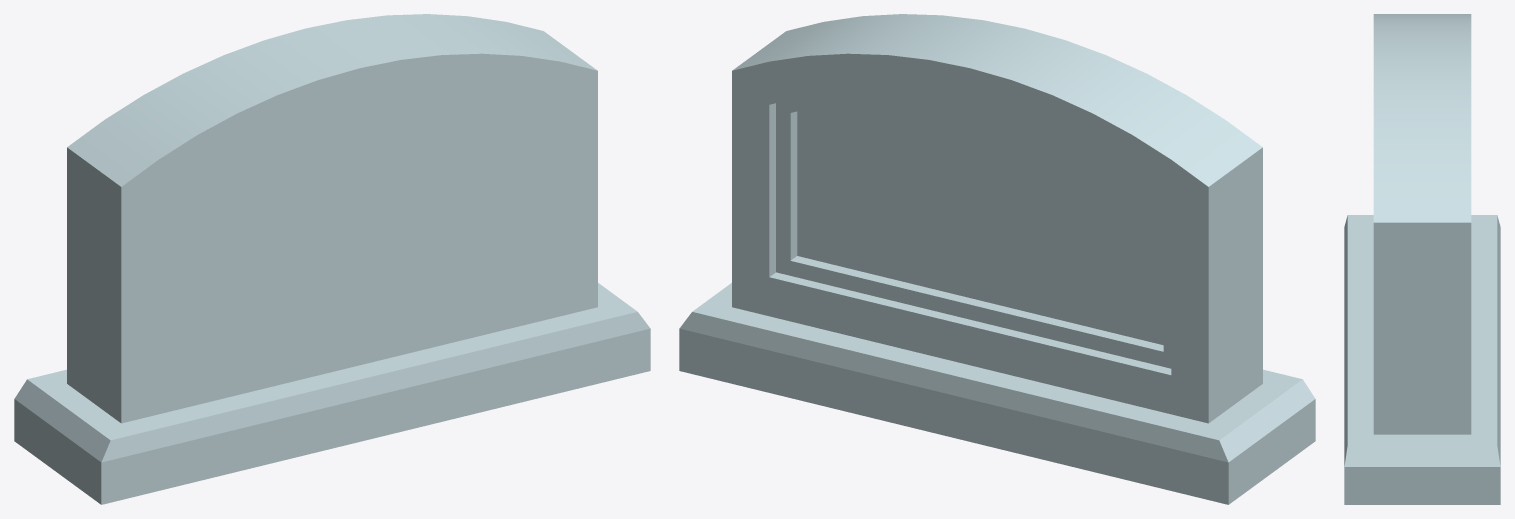
The model's file is gravestoneWide.glb.
The picture shows the model from 3 angles, left to right: view 1: azimuth 30°, elevation 25°; view 2: azimuth 150°, elevation 25°; view 3: azimuth 270°, elevation 25°; orthographic projection. The views are drawn at different scales.
Parts seen in each view (by area): view 1: gravestoneWide; view 2: gravestoneWide; view 3: gravestoneWide.
Part boxes in pixels (<box>): gravestoneWide: <box>14,14,650,504</box>; gravestoneWide: <box>679,14,1315,504</box>; gravestoneWide: <box>1344,14,1500,504</box>.
Size of the model in its own units: 0.7866 by 0.4897 by 0.2158.
